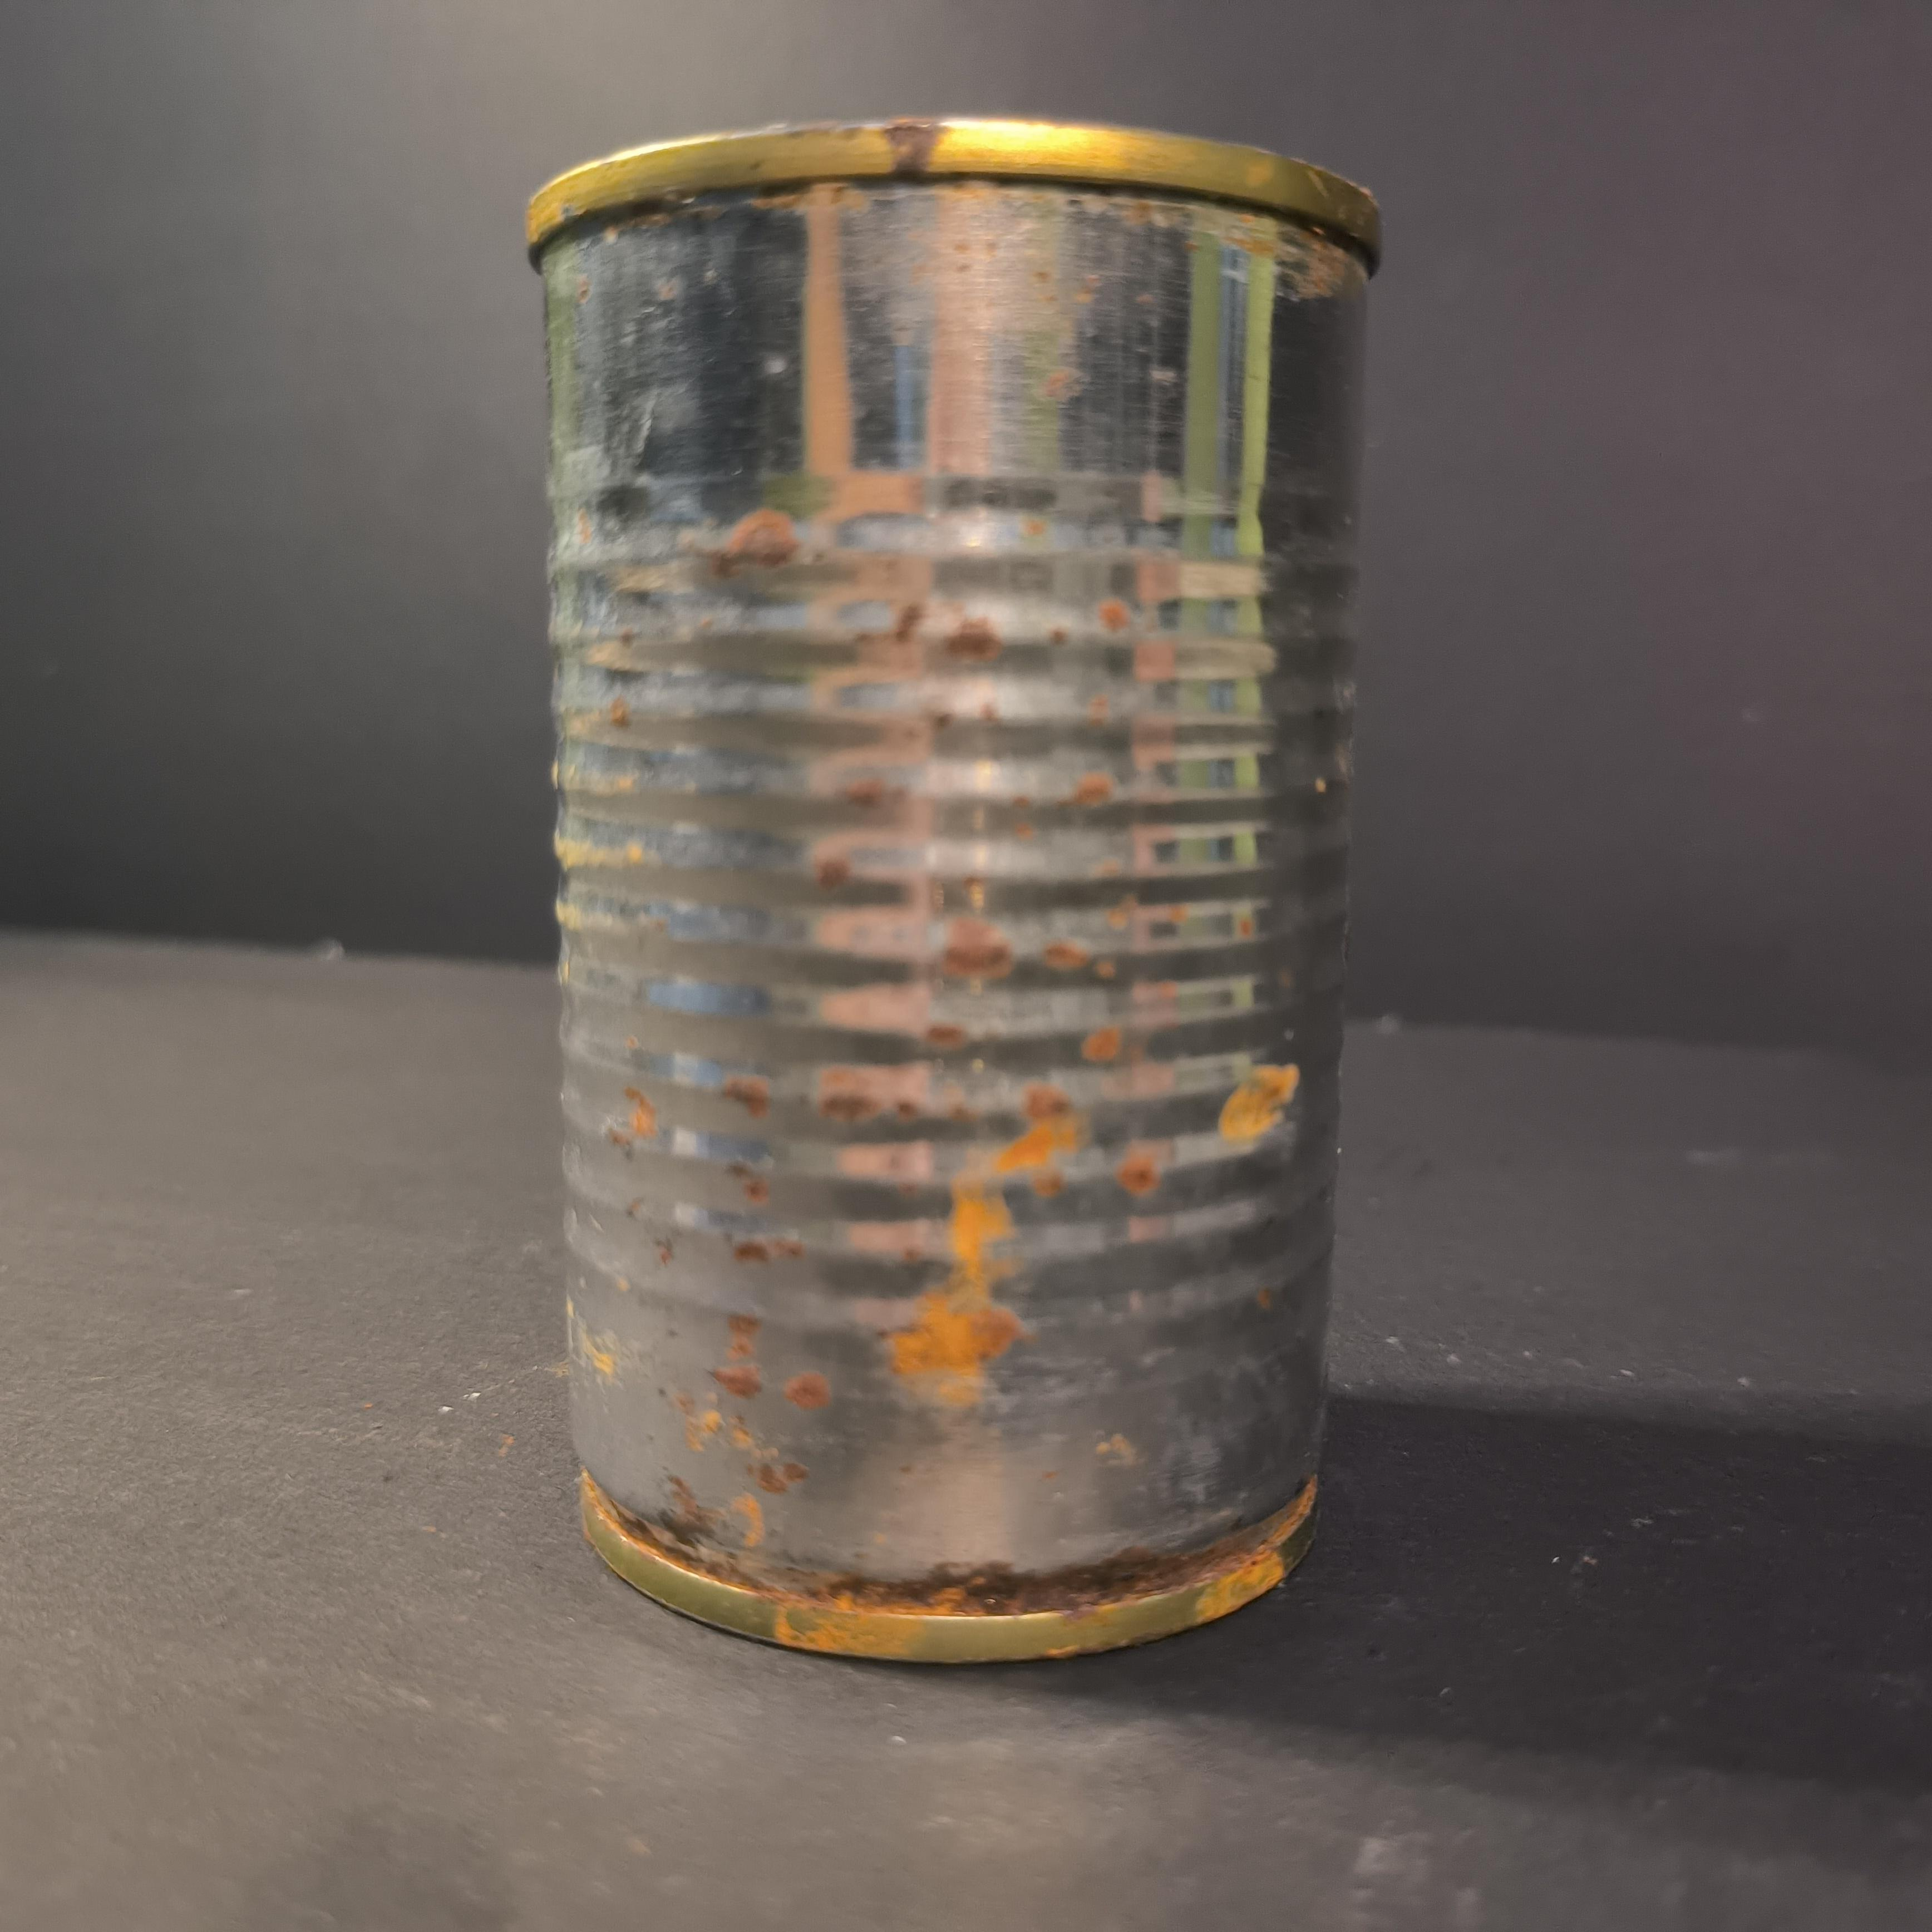Rusted: (524, 97, 1385, 1683)
